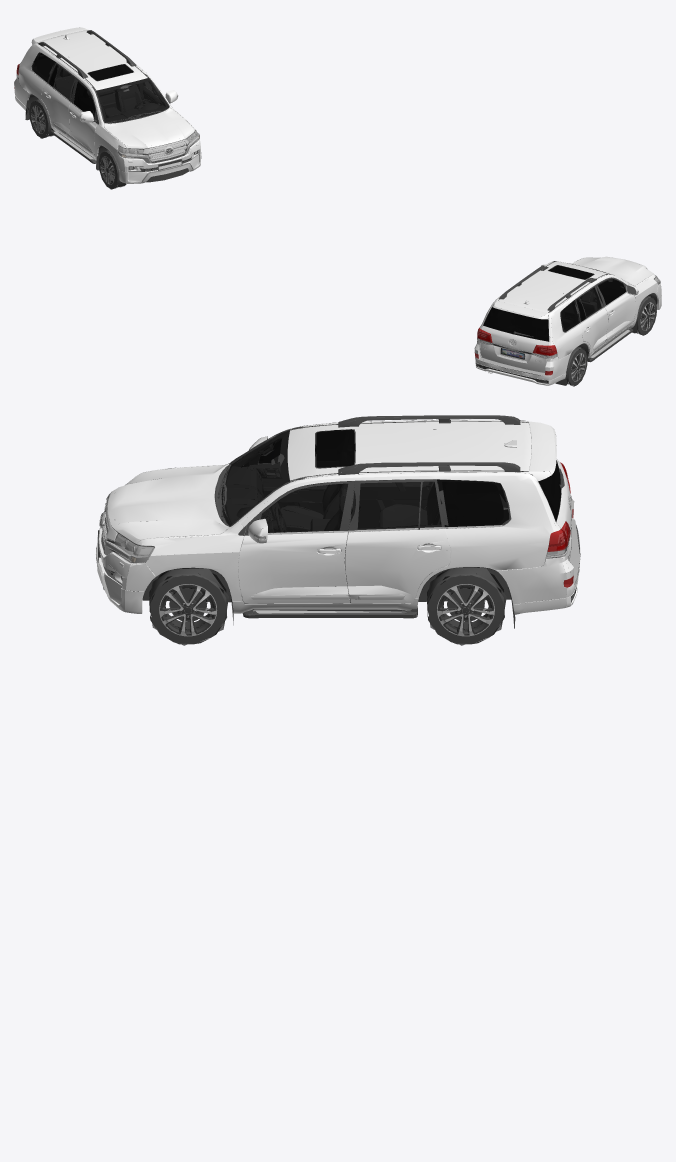
Rendered from lc200-ready.glb.
3 renders of one model, top to bottom at view 1: azimuth 30°, elevation 25°; view 2: azimuth 150°, elevation 25°; view 3: azimuth 270°, elevation 25°, orthographic. The views are drawn at different scales.
Visible parts, largest first — view 1: Body_Panel, Material2, Window_02, Material3.002, Window_03, Window, Wheel_RL_11, Wheel_FL_11, Material3.016; view 2: Body_Panel, Material2, Window_03, Window, Window_02, Material3.002, Taillight_L_02, Wheel_RL_11, Wheel_FL_11; view 3: Body_Panel, Material2, Window_02, Window_03, Window, Wheel_RR_11, Wheel_FR_11, Material3.002.
Part boxes in pixels (x1=…): Body_Panel: x1=14, y1=27, x2=201, y2=183; Material2: x1=17, y1=30, x2=197, y2=182; Window_02: x1=26, y1=40, x2=181, y2=170; Material3.002: x1=16, y1=71, x2=198, y2=163; Window_03: x1=49, y1=64, x2=132, y2=118; Window: x1=18, y1=53, x2=201, y2=171; Wheel_RL_11: x1=29, y1=99, x2=53, y2=138; Wheel_FL_11: x1=98, y1=150, x2=126, y2=189; Material3.016: x1=16, y1=74, x2=199, y2=158; Body_Panel: x1=474, y1=256, x2=661, y2=385; Material2: x1=476, y1=261, x2=657, y2=385; Window_03: x1=484, y1=265, x2=625, y2=340; Window: x1=477, y1=275, x2=649, y2=356; Window_02: x1=486, y1=263, x2=660, y2=381; Material3.002: x1=477, y1=265, x2=658, y2=359; Taillight_L_02: x1=477, y1=327, x2=557, y2=355; Wheel_RL_11: x1=567, y1=346, x2=587, y2=386; Wheel_FL_11: x1=636, y1=296, x2=656, y2=335; Body_Panel: x1=96, y1=419, x2=580, y2=614; Material2: x1=101, y1=415, x2=579, y2=628; Window_02: x1=97, y1=415, x2=580, y2=628; Window_03: x1=259, y1=429, x2=560, y2=527; Window: x1=96, y1=420, x2=571, y2=603; Wheel_RR_11: x1=427, y1=567, x2=506, y2=644; Wheel_FR_11: x1=149, y1=568, x2=228, y2=644; Material3.002: x1=99, y1=463, x2=571, y2=599.
Bounding box in the file's own units: 2730 × 366 × 951.
Materials: 34 (2 with a texture image).
